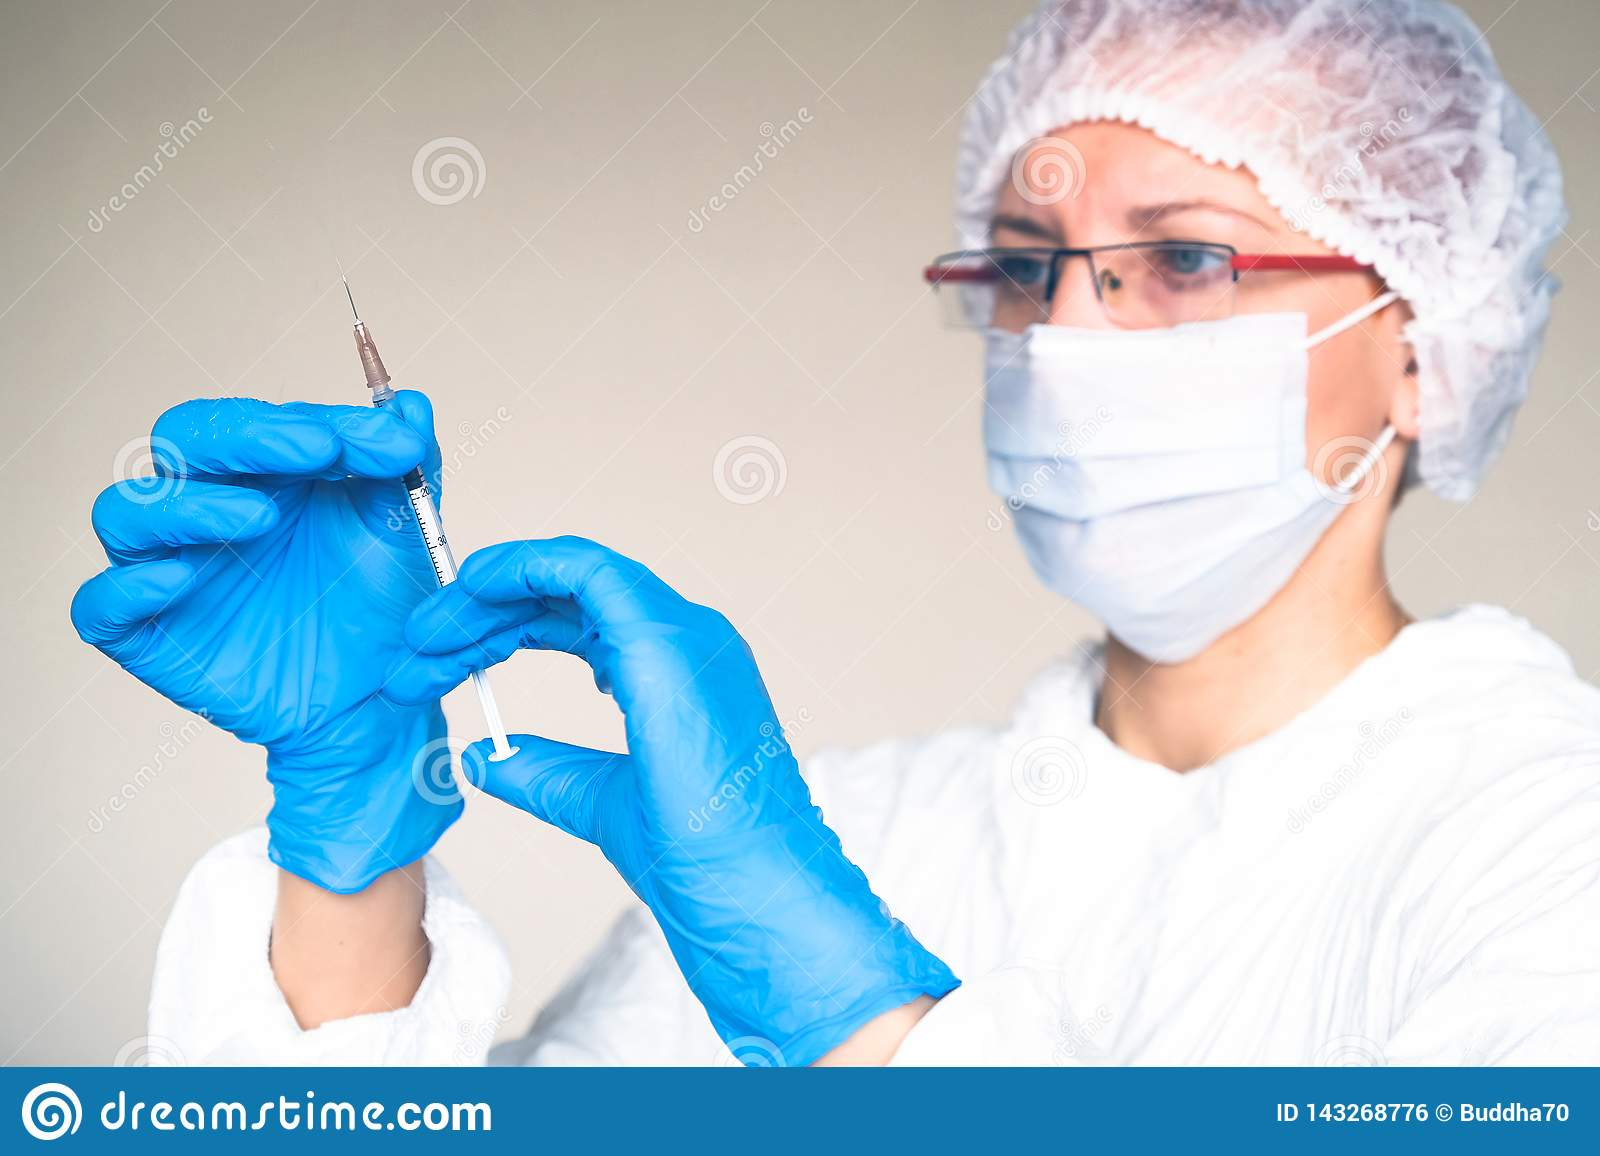mask: (986, 313, 1340, 669)
